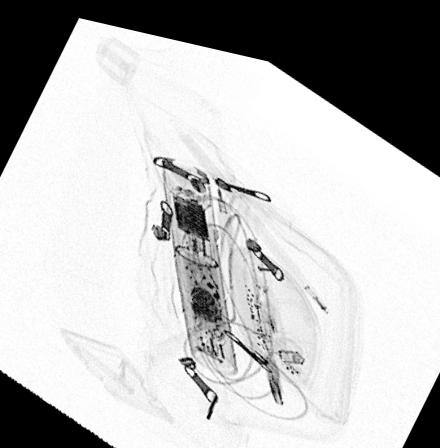Baton: (160, 148, 238, 368)
